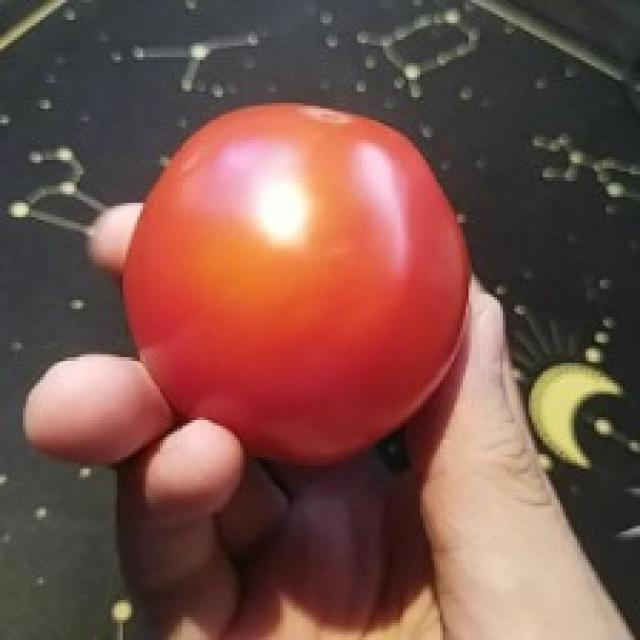tomato: (126, 103, 469, 469)
